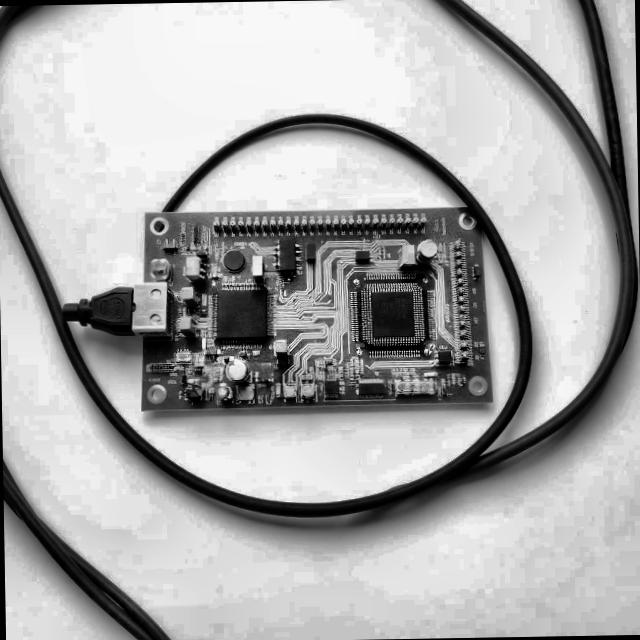Cable: (0, 3, 143, 640), (483, 0, 640, 444), (143, 416, 490, 536), (172, 102, 468, 206)
PCB: (141, 204, 490, 408)
